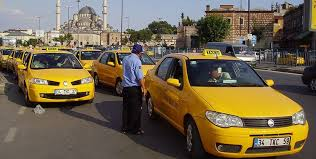taxi: (144, 49, 308, 159), (17, 51, 96, 102), (93, 50, 156, 95), (77, 48, 100, 71), (276, 54, 305, 65), (1, 47, 13, 65)
